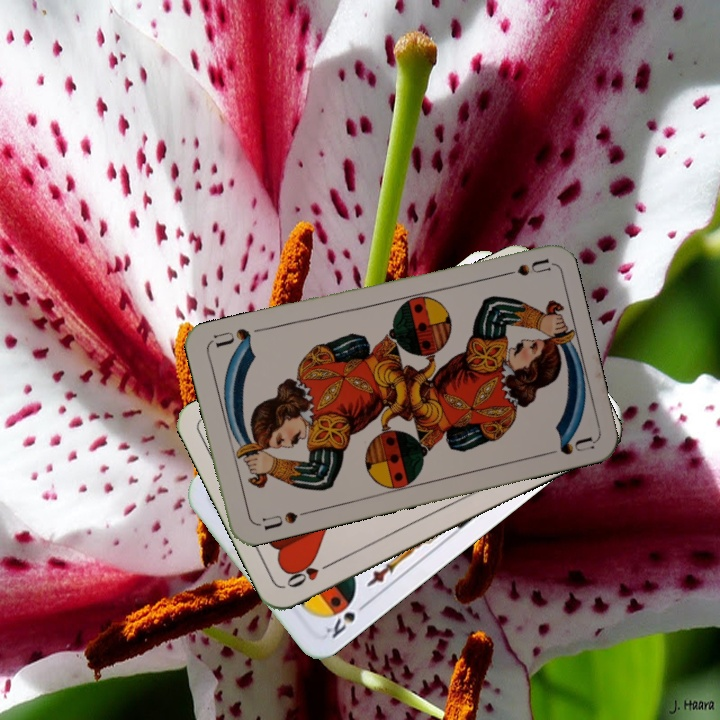HO: (282, 557, 337, 591)
SK: (319, 597, 372, 641)
SU: (491, 255, 551, 281), (258, 506, 312, 533)
